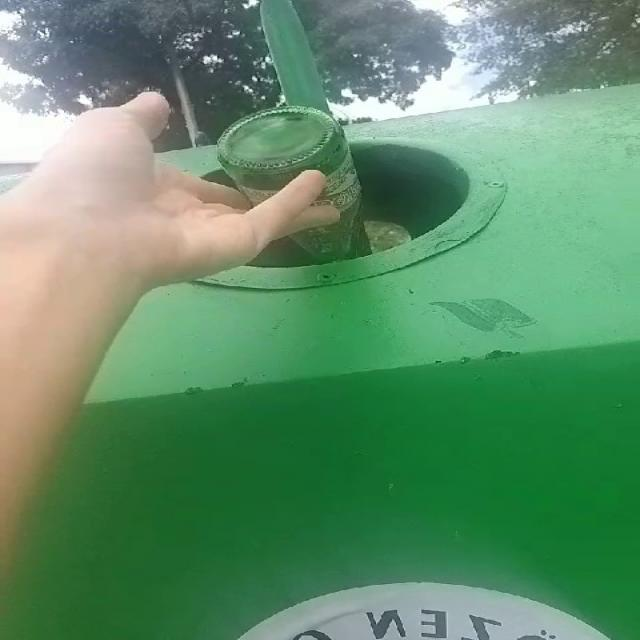Glass: (217, 105, 371, 260)
